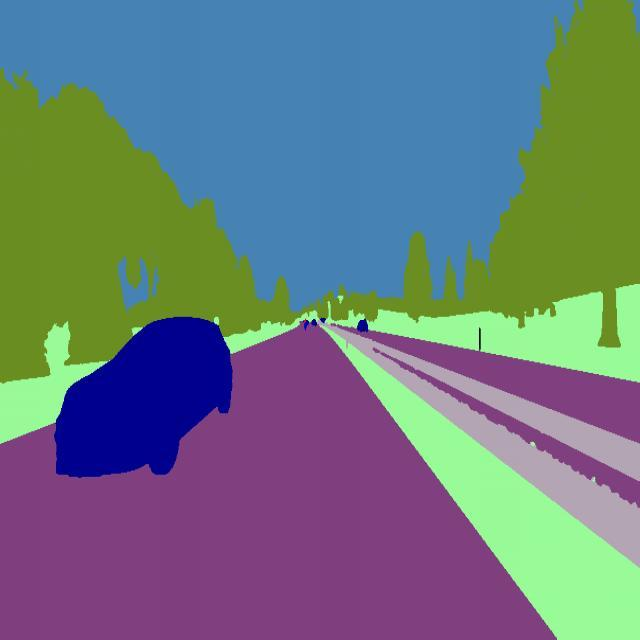safe: (354, 318, 370, 336), (302, 323, 310, 330)
unsafe: (52, 314, 234, 484)
